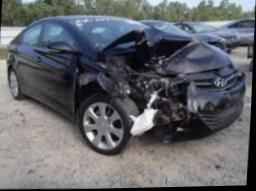Bonnet: (96, 29, 234, 83)
Bumper: (140, 85, 246, 143)
Light: (139, 87, 167, 115)
